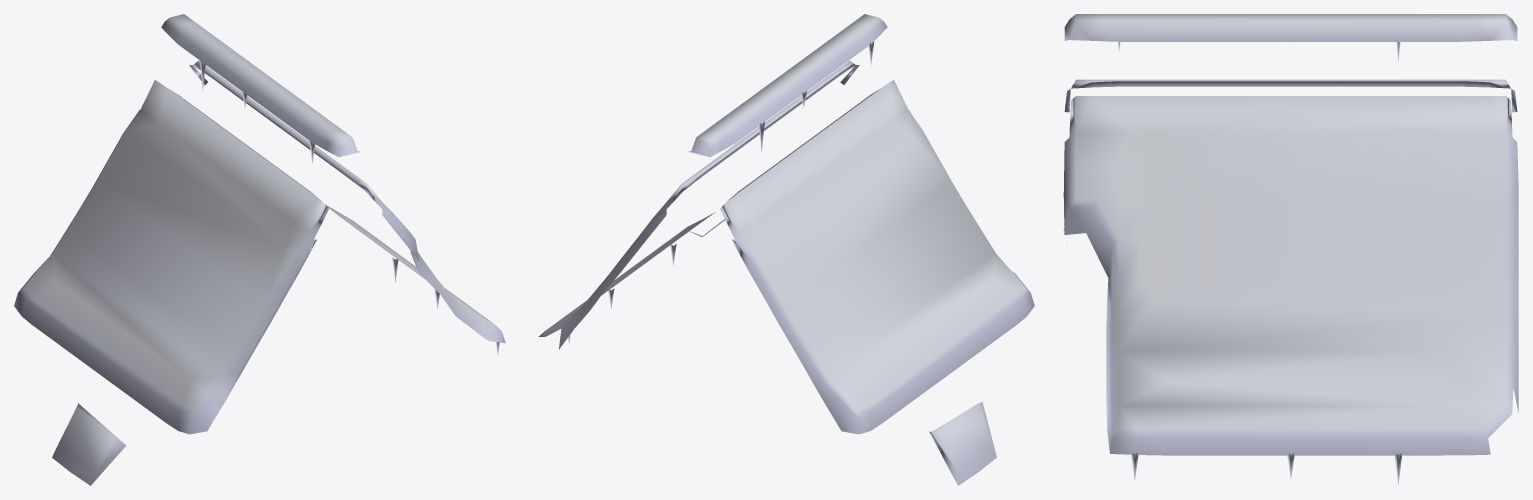
Rendered from category.lending.xs.snow.glb.
3 views of the same model, side by side, from view 1: azimuth 30°, elevation 25°; view 2: azimuth 150°, elevation 25°; view 3: azimuth 270°, elevation 25° (orthographic). The views are drawn at different scales.
Visible parts, largest first — view 1: snow, tier.2; view 2: snow, tier.2; view 3: snow.
Boxes of the visible parts, x1=… form: snow: x1=14, y1=14, x2=505, y2=434; tier.2: x1=52, y1=402, x2=126, y2=485; snow: x1=538, y1=14, x2=1034, y2=434; tier.2: x1=929, y1=401, x2=996, y2=485; snow: x1=1063, y1=14, x2=1518, y2=484.
Bounding box in the file's own units: 2.54 × 2.28 × 2.12.
